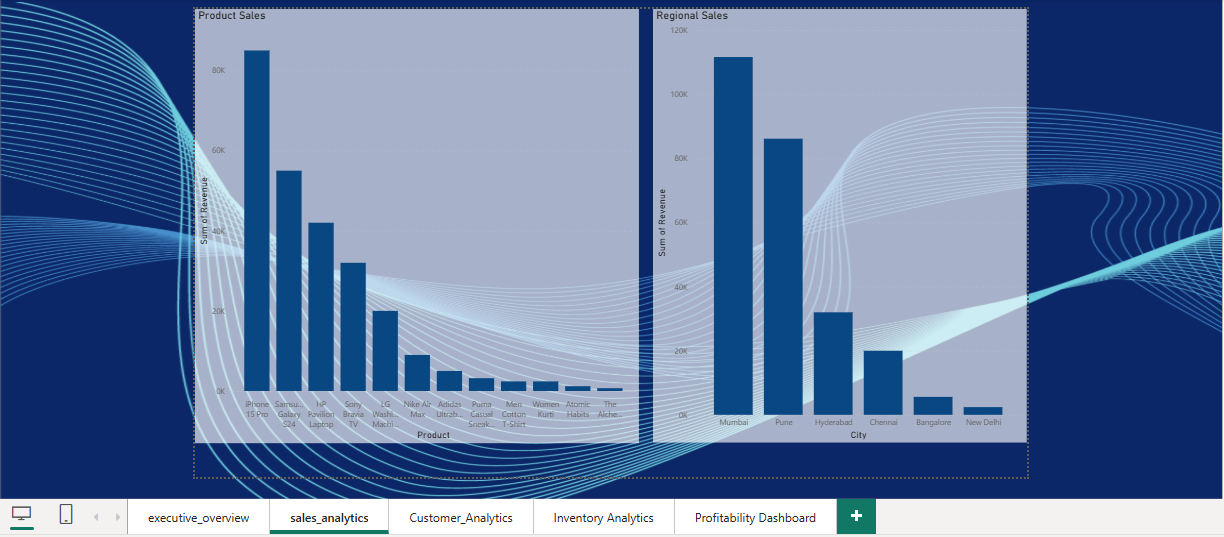

What the dashboard file says about the page in this screenshot:
{"tool":"powerbi","page":{"name":"sales_analytics","canvas":[1280,720],"ordinal":1},"visuals":[{"type":"clusteredColumnChart","title":"Product Sales","fields":{"Category":["product_sales.Product"],"Y":["Sum(product_sales.Revenue)"]},"box":[10.2,0,695.1,680.5],"z":0},{"type":"clusteredColumnChart","title":"Regional Sales","fields":{"Category":["regional_sales.City"],"Y":["Sum(regional_sales.Revenue)"]},"box":[705.4,0,575.1,667.3],"z":1000}]}

Visuals, with their boxes on the page's 1280x720 design canvas (x1, y1, x2, y2). These are canvas units, not pixel positions in the 1224x537 screenshot, which may show the page scaled, cropped or inside an application window:
"Product Sales" clusteredColumnChart: left=10, top=0, right=705, bottom=680
"Regional Sales" clusteredColumnChart: left=705, top=0, right=1280, bottom=667
